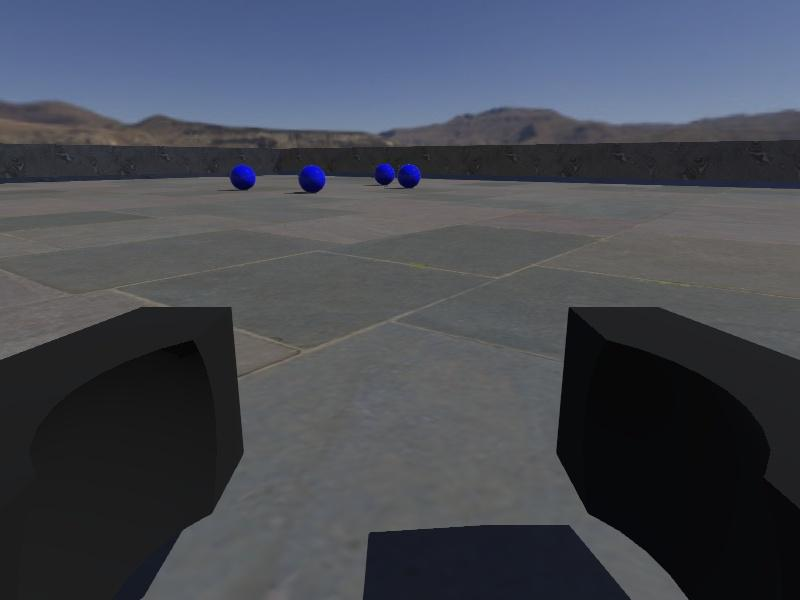blue ball: (297, 165, 327, 193), (230, 163, 256, 191), (397, 162, 422, 188), (373, 162, 395, 186)
